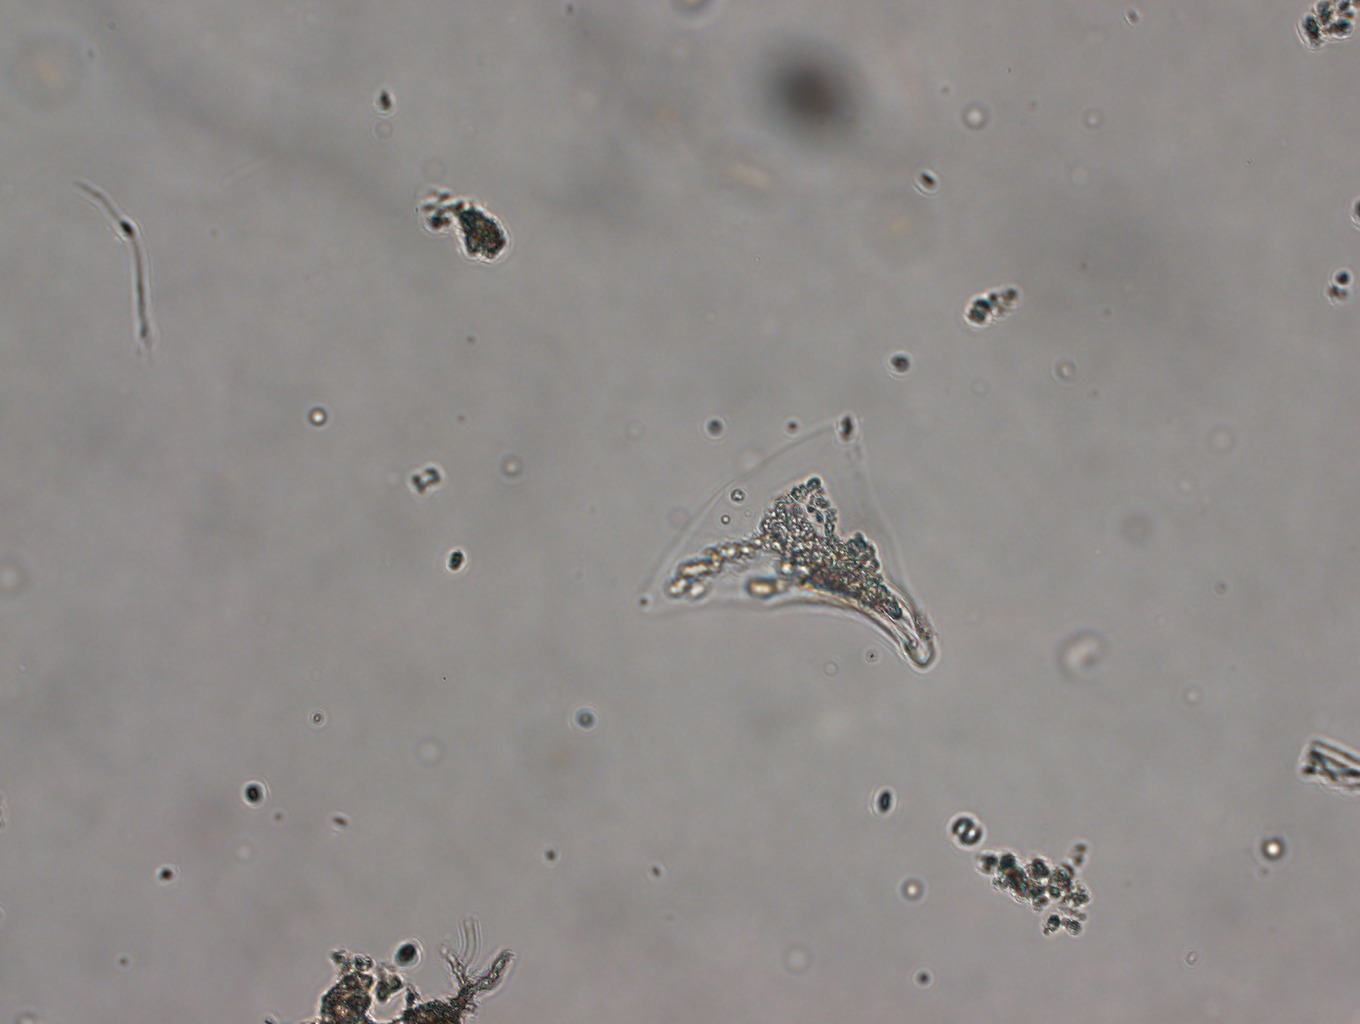helicotheca: (626, 402, 942, 680)
